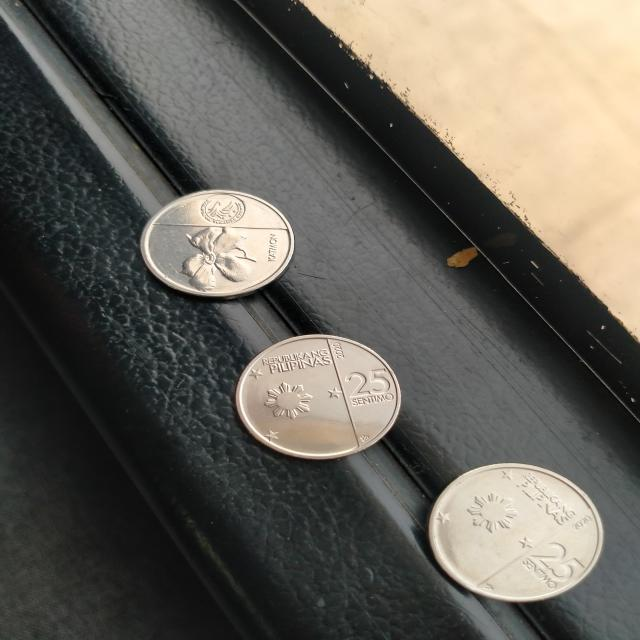25Cent_New_Back: (175, 223, 260, 288)
25Cent_New_Front: (517, 539, 584, 593), (335, 364, 396, 422)
